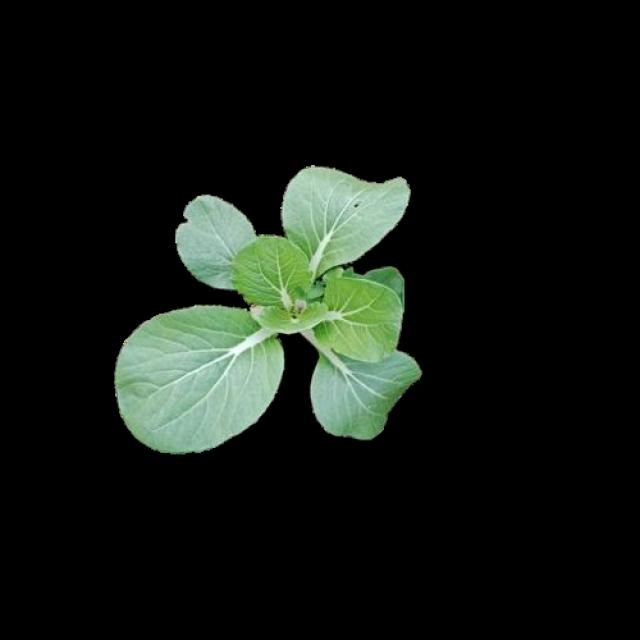healthy: (113, 163, 421, 449)
not-mature: (115, 165, 424, 452)
